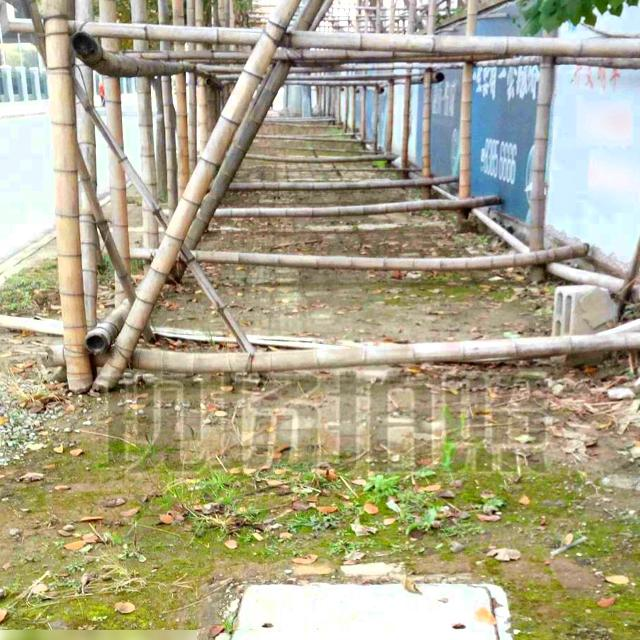uncovered: (201, 564, 533, 640)
